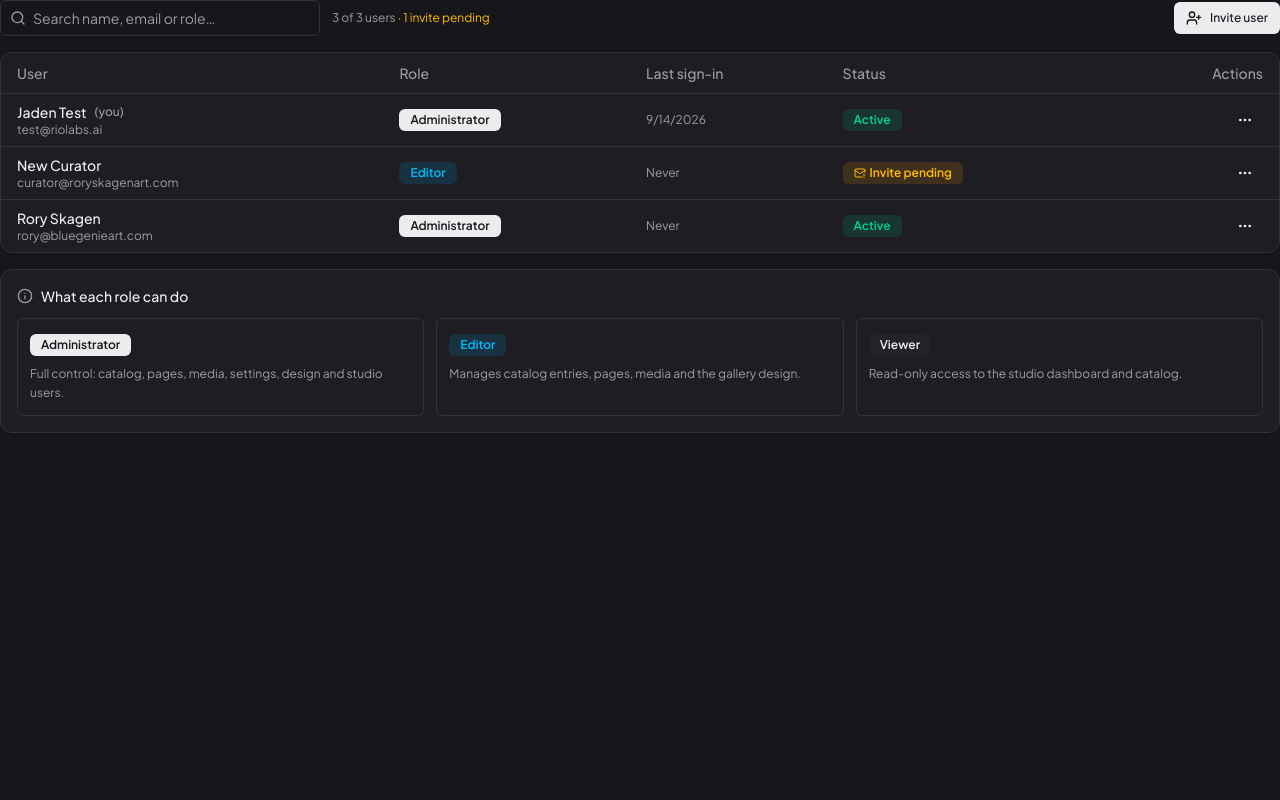
UsersAdminView › opens the edit dialog pre-filled with the user
Expected: the text "curator@roryskagenart.com" is shown, [17, 174, 178, 190]
Click the button named "Actions for curator@roryskagenart.com" at coordinates (1245, 172), box [1227, 154, 1263, 190]
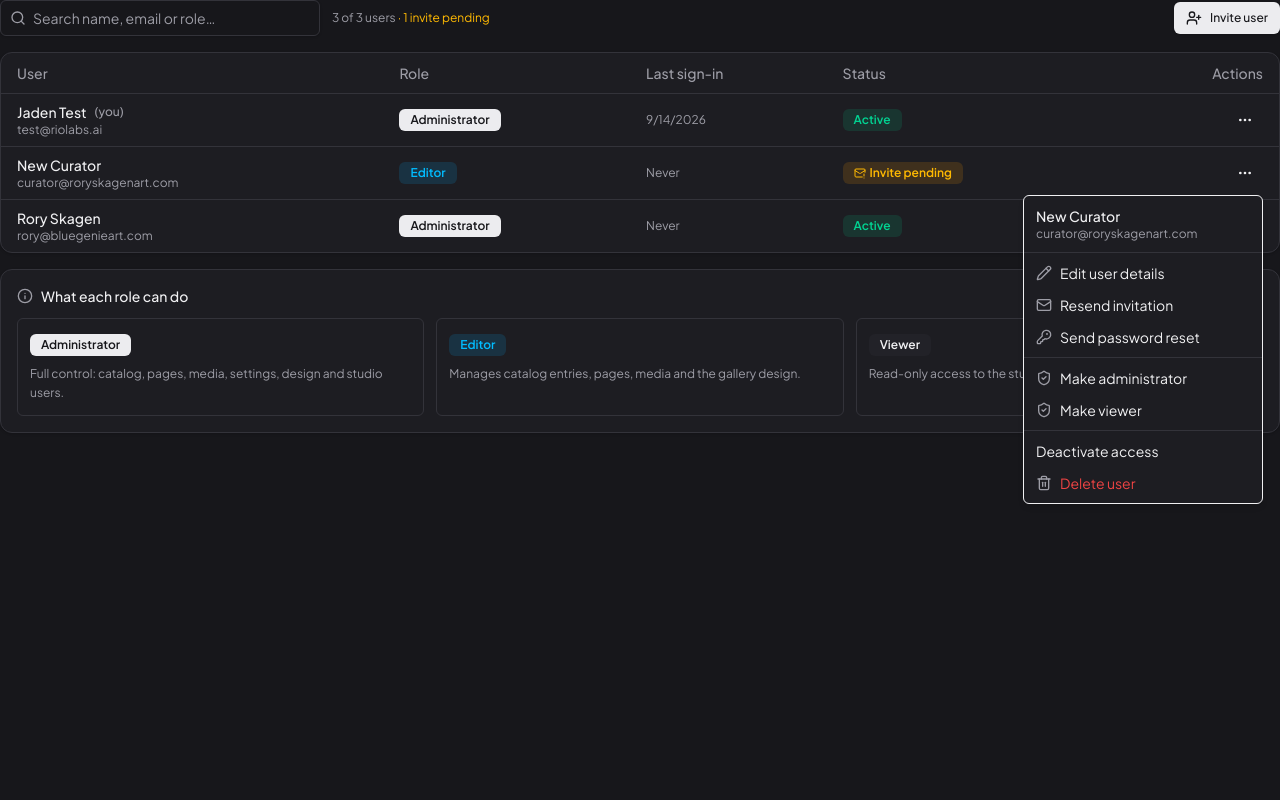
Click the menu item "Edit user details" at coordinates (1100, 273), box [1036, 264, 1165, 282]
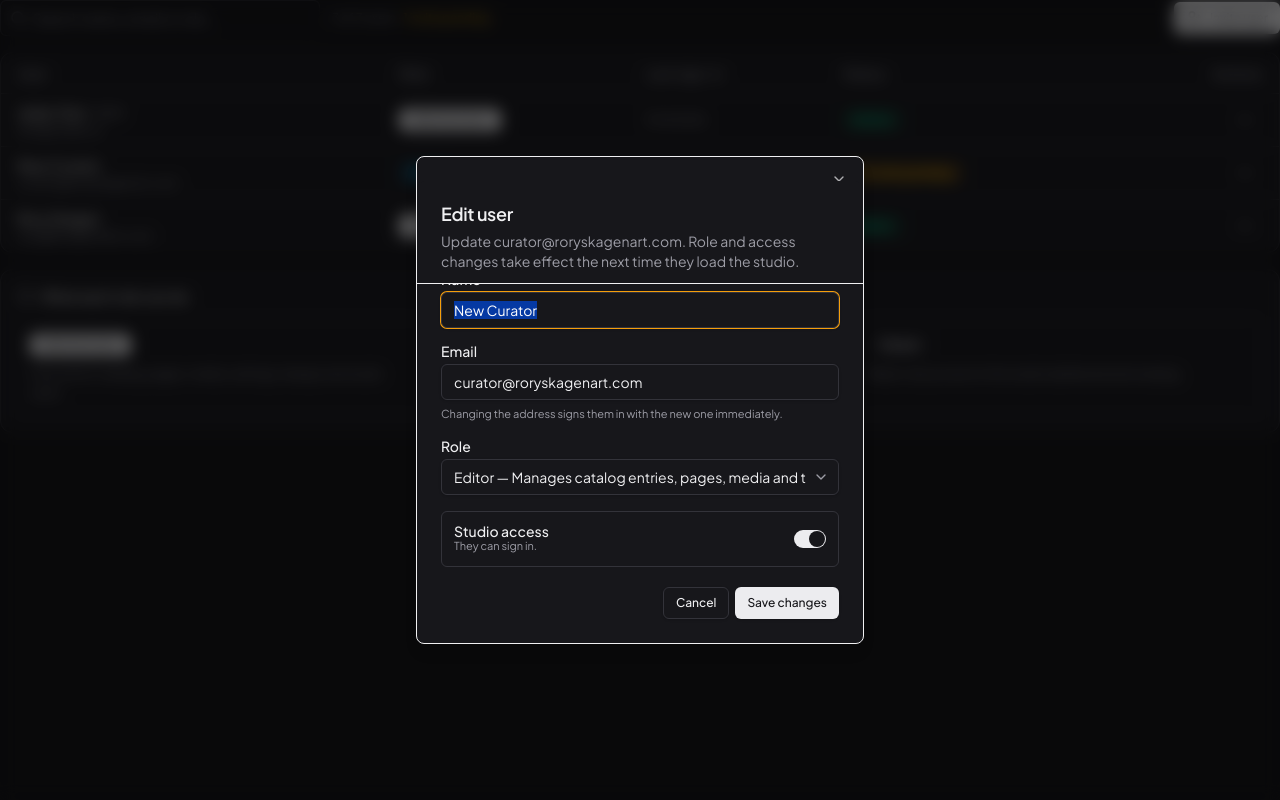
Result: the field labelled "Name" holds "New Curator" at [441, 292, 839, 328]
Result: the field labelled "Email" holds "curator@roryskagenart.com" at [441, 364, 839, 400]
Result: the dropdown labelled "Role" shows "Editor — Manages catalog entries, pages, media and the gallery design." at [441, 458, 839, 494]
